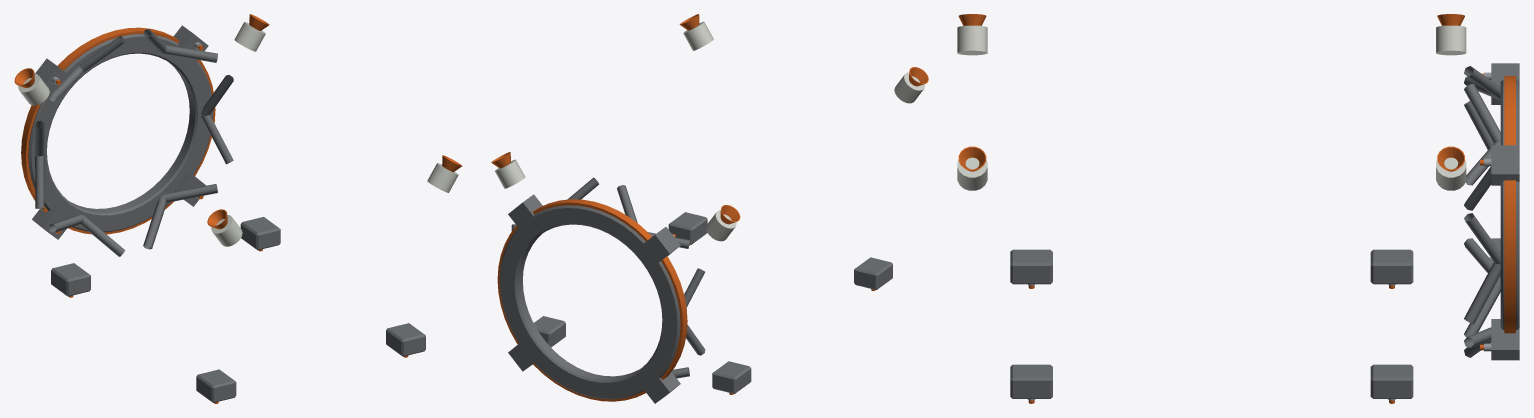
The model's file is p20_separation.obj.
3 renders of one model, left to right at view 1: azimuth 30°, elevation 25°; view 2: azimuth 150°, elevation 25°; view 3: azimuth 270°, elevation 25°, orthographic. The views are drawn at different scales.
Parts seen in each view (by area): view 1: p20_separation; view 2: p20_separation; view 3: p20_separation.
Part boxes in pixels (x1,y1,x2,y2): p20_separation: (14,14,462,403); p20_separation: (491,14,928,403); p20_separation: (957,14,1519,403).
Bounding box in the file's own units: 3.05 × 2.56 × 4.76.
